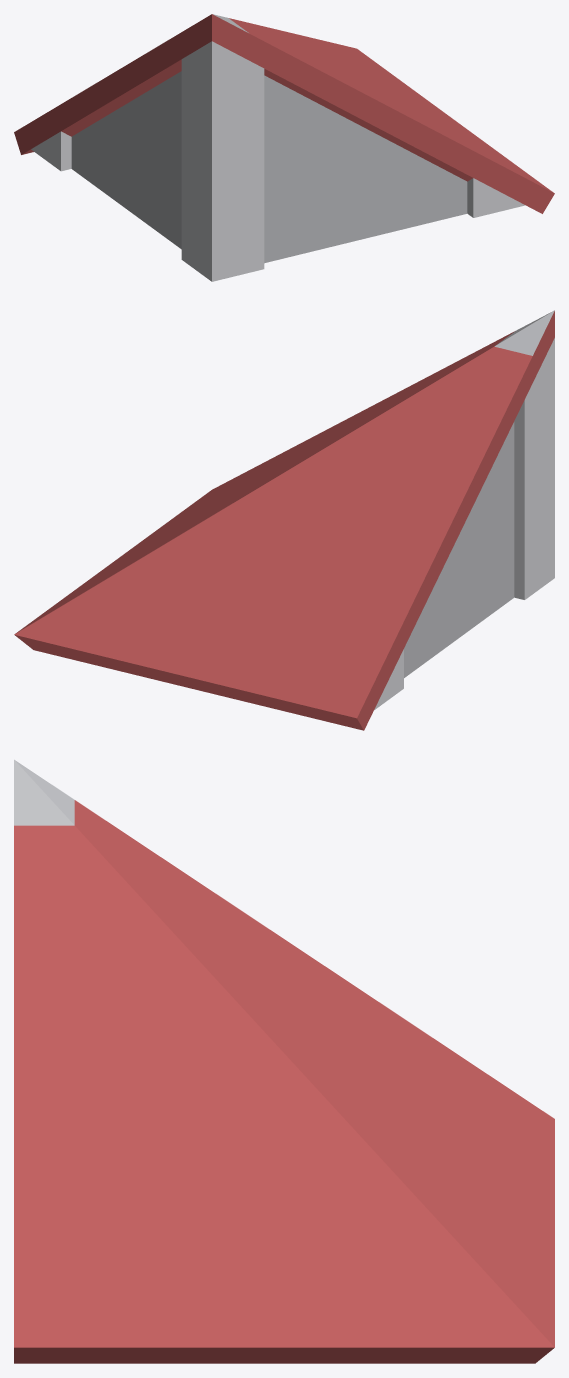
The model's file is Roof_Corner_Red_02.obj.
The picture shows the model from 3 angles, top to bottom: view 1: azimuth 30°, elevation 25°; view 2: azimuth 150°, elevation 25°; view 3: azimuth 270°, elevation 25°; orthographic projection. The views are drawn at different scales.
Visible parts, largest first — view 1: Mesh1_Roof_Corner_Red_Model; view 2: Mesh1_Roof_Corner_Red_Model; view 3: Mesh1_Roof_Corner_Red_Model.
Boxes of the visible parts, x1,y1,x2,y2 form: Mesh1_Roof_Corner_Red_Model: (14, 14, 554, 281); Mesh1_Roof_Corner_Red_Model: (14, 310, 554, 730); Mesh1_Roof_Corner_Red_Model: (14, 759, 554, 1363).
Size of the model in its own units: 3.28 by 2.57 by 3.28.
